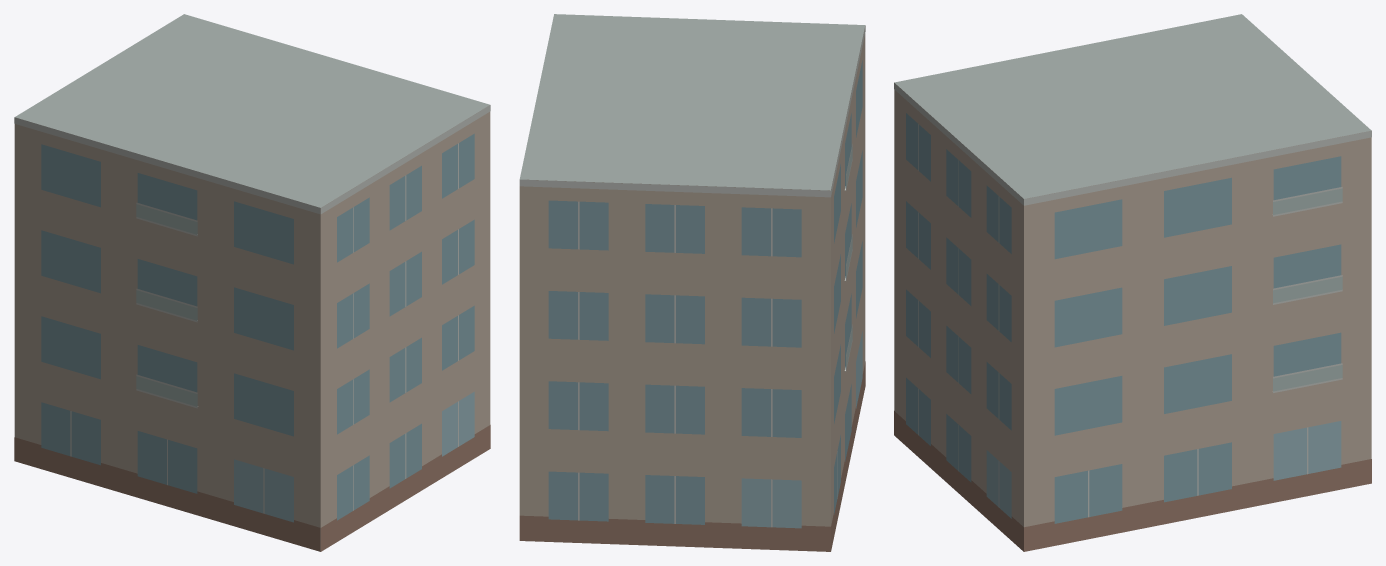
The model's file is survey-upis-32708312.glb.
3 views of the same model, side by side, from view 1: azimuth 30°, elevation 25°; view 2: azimuth 150°, elevation 25°; view 3: azimuth 270°, elevation 25° (orthographic). The views are drawn at different scales.
Visible parts, largest first — view 1: survey-upis-32708312.tmp; view 2: survey-upis-32708312.tmp; view 3: survey-upis-32708312.tmp.
Boxes of the visible parts, left/top/right/bottom form: survey-upis-32708312.tmp: left=14, top=14, right=490, bottom=551; survey-upis-32708312.tmp: left=519, top=14, right=865, bottom=551; survey-upis-32708312.tmp: left=894, top=14, right=1371, bottom=551.
Size of the model in its own units: 14.41 by 12.8 by 15.71.
